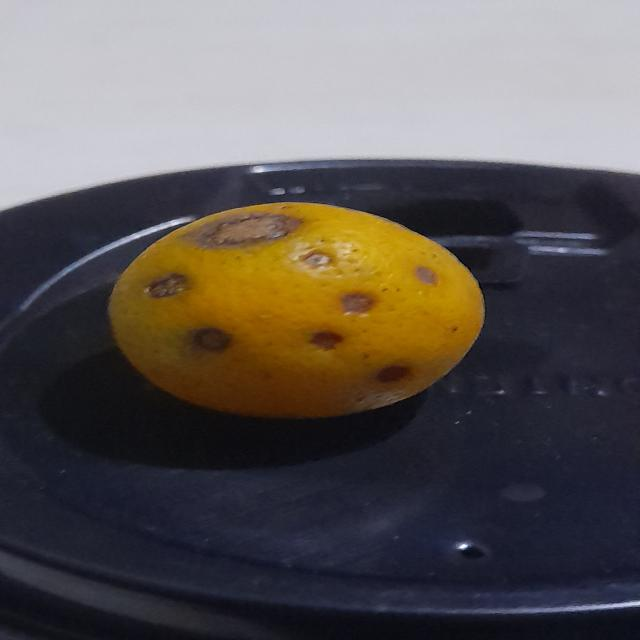black spot: (106, 201, 488, 423)
